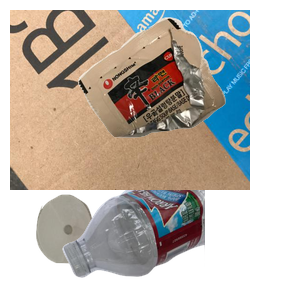cardboard: (10, 10, 250, 190)
glass: (34, 192, 187, 300)
plastic: (60, 190, 300, 280)
trash: (76, 15, 300, 145)
